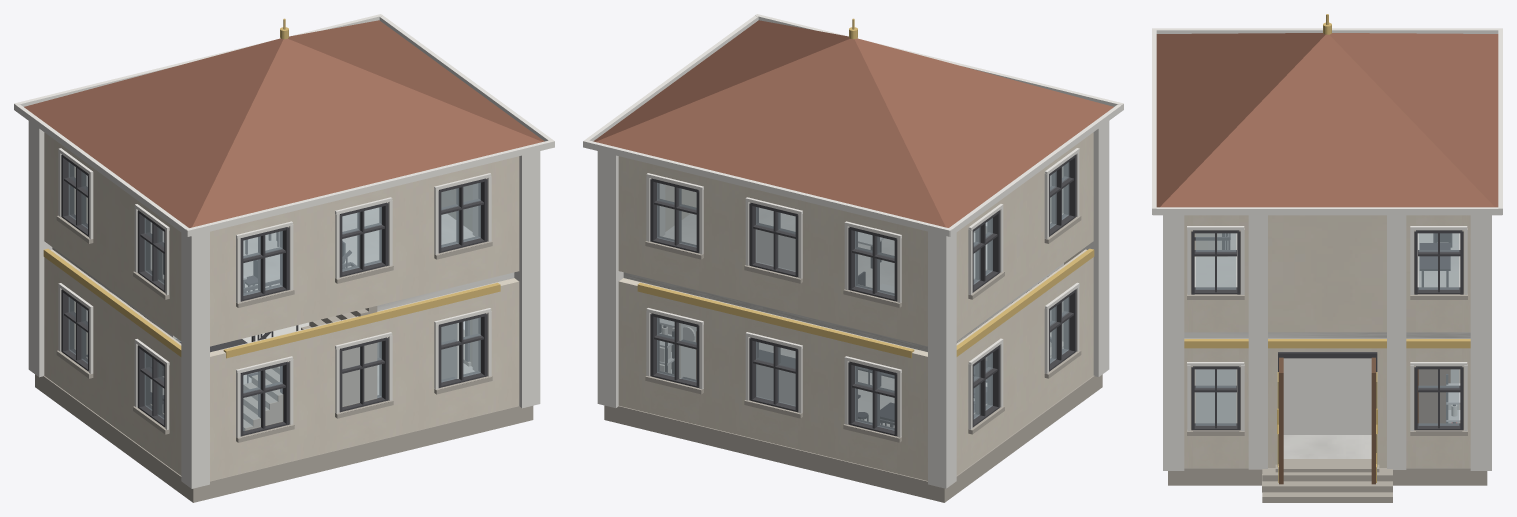
File: gedung-lab-v6.glb
3 views of the same model, side by side, from view 1: azimuth 30°, elevation 25°; view 2: azimuth 150°, elevation 25°; view 3: azimuth 270°, elevation 25° (orthographic).
Visible parts, largest first — view 1: Merged_Plester, Atap, Merged_Putih, Merged_LogamGelap, Merged_Batu, Merged_Kaca, Merged_Emas, Merged_Marmer; view 2: Merged_Plester, Atap, Merged_Putih, Merged_LogamGelap, Merged_Kaca, Merged_Batu, Merged_Marmer, Merged_Emas, Merged_PapanTulis; view 3: Atap, Merged_Putih, Merged_Plester, Merged_Batu, Merged_Kaca, Merged_LogamGelap, Merged_Marmer, Merged_Emas, Merged_Mahoni, Merged_MejaTop.
Boxes of the visible parts, x1,y1,x2,y2 form: Merged_Plester: (44, 132, 519, 480); Atap: (24, 20, 544, 227); Merged_Putih: (14, 14, 554, 488); Merged_LogamGelap: (61, 154, 487, 436); Merged_Batu: (35, 213, 533, 502); Merged_Kaca: (68, 162, 480, 430); Merged_Emas: (43, 18, 500, 358); Merged_Marmer: (52, 207, 514, 394); Merged_Plester: (618, 132, 1093, 480); Atap: (593, 20, 1113, 227); Merged_Putih: (583, 14, 1123, 488); Merged_LogamGelap: (650, 154, 1076, 437); Merged_Kaca: (657, 162, 1069, 430); Merged_Batu: (604, 213, 1102, 502); Merged_Marmer: (623, 208, 1063, 427); Merged_Emas: (637, 18, 1094, 358); Merged_PapanTulis: (755, 229, 795, 271); Atap: (1156, 33, 1498, 207); Merged_Putih: (1152, 28, 1502, 470); Merged_Plester: (1184, 215, 1470, 467); Merged_Batu: (1168, 256, 1487, 502); Merged_Kaca: (1195, 233, 1459, 425); Merged_LogamGelap: (1191, 230, 1463, 465); Merged_Marmer: (1184, 233, 1470, 458); Merged_Emas: (1184, 14, 1470, 482); Merged_Mahoni: (1279, 357, 1450, 484); Merged_MejaTop: (1420, 233, 1450, 270).
Bounding box in the file's own units: 11.75 × 11.12 × 9.12.
17 materials, 3 textured.
